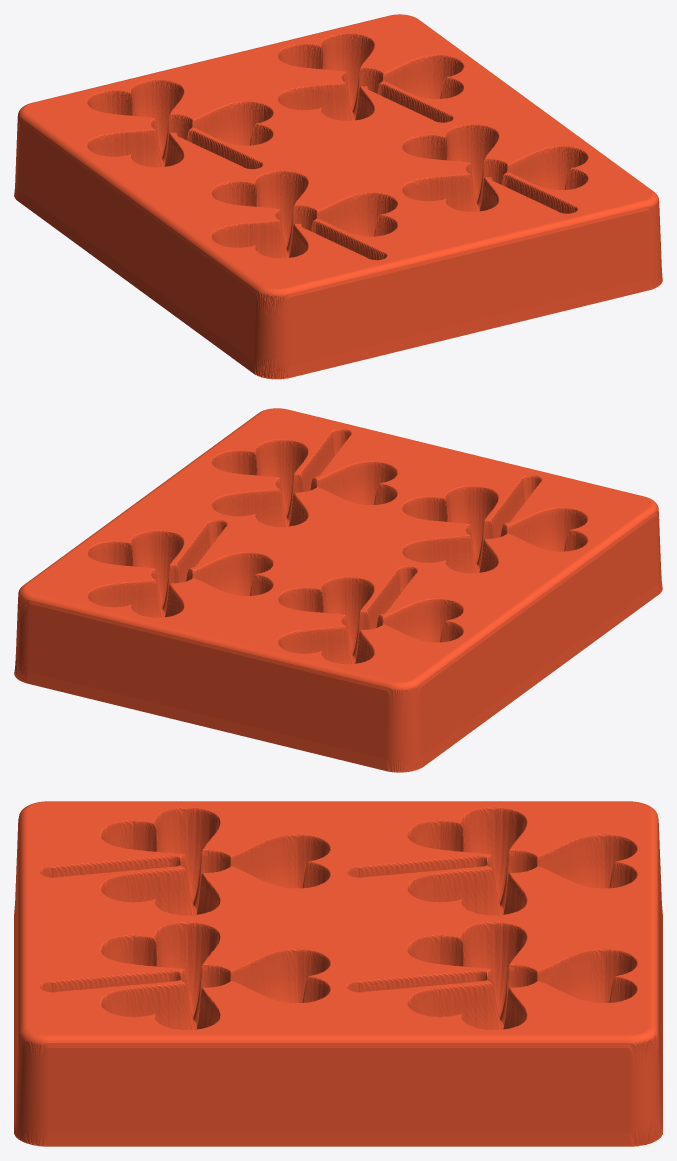
Rendered from mold.glb.
3 renders of one model, top to bottom at view 1: azimuth 30°, elevation 25°; view 2: azimuth 150°, elevation 25°; view 3: azimuth 270°, elevation 25°, orthographic. The views are drawn at different scales.
Parts seen in each view (by area): view 1: geometry_0; view 2: geometry_0; view 3: geometry_0.
Boxes of the visible parts, <box> form: geometry_0: <box>14,14,662,379</box>; geometry_0: <box>14,408,662,772</box>; geometry_0: <box>14,801,662,1146</box>.
Size of the model in its own units: 0.1534 by 0.031 by 0.1721.
